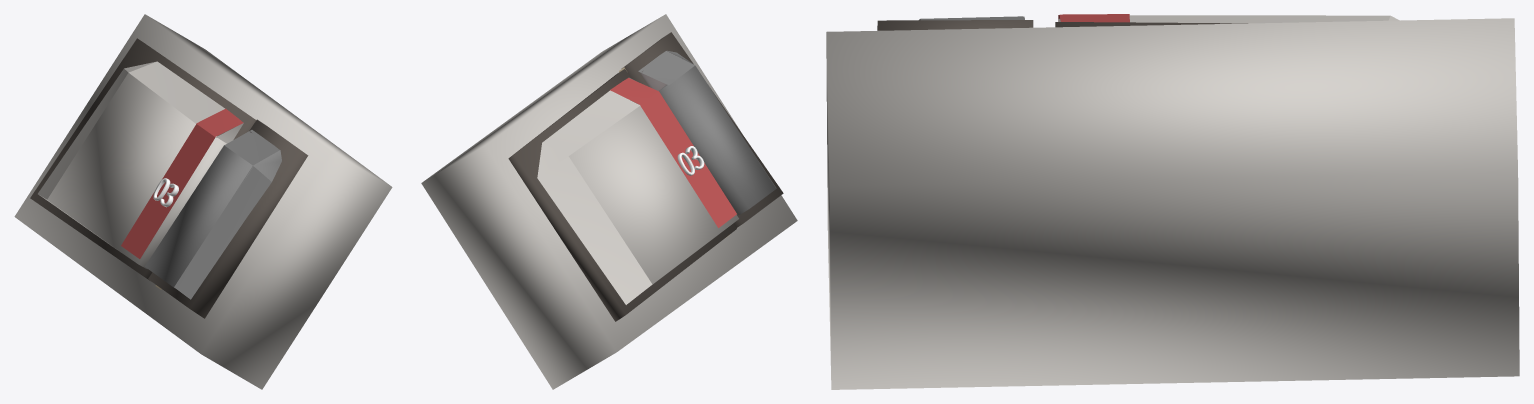
File: Keycard Padlock L3 without indicator lights.fbx
3 views of the same model, side by side, from view 1: azimuth 30°, elevation 25°; view 2: azimuth 150°, elevation 25°; view 3: azimuth 270°, elevation 25° (orthographic). The views are drawn at different scales.
Parts seen in each view (by area): view 1: 16cfc7df-e2ca-4a43-af7d-923495b04688; view 2: 16cfc7df-e2ca-4a43-af7d-923495b04688; view 3: 16cfc7df-e2ca-4a43-af7d-923495b04688.
Part boxes in pixels (x1=…): 16cfc7df-e2ca-4a43-af7d-923495b04688: x1=14, y1=14, x2=392, y2=389; 16cfc7df-e2ca-4a43-af7d-923495b04688: x1=421, y1=14, x2=797, y2=389; 16cfc7df-e2ca-4a43-af7d-923495b04688: x1=826, y1=14, x2=1519, y2=389.
Size of the model in its own units: 2356 by 2599 by 3794.
